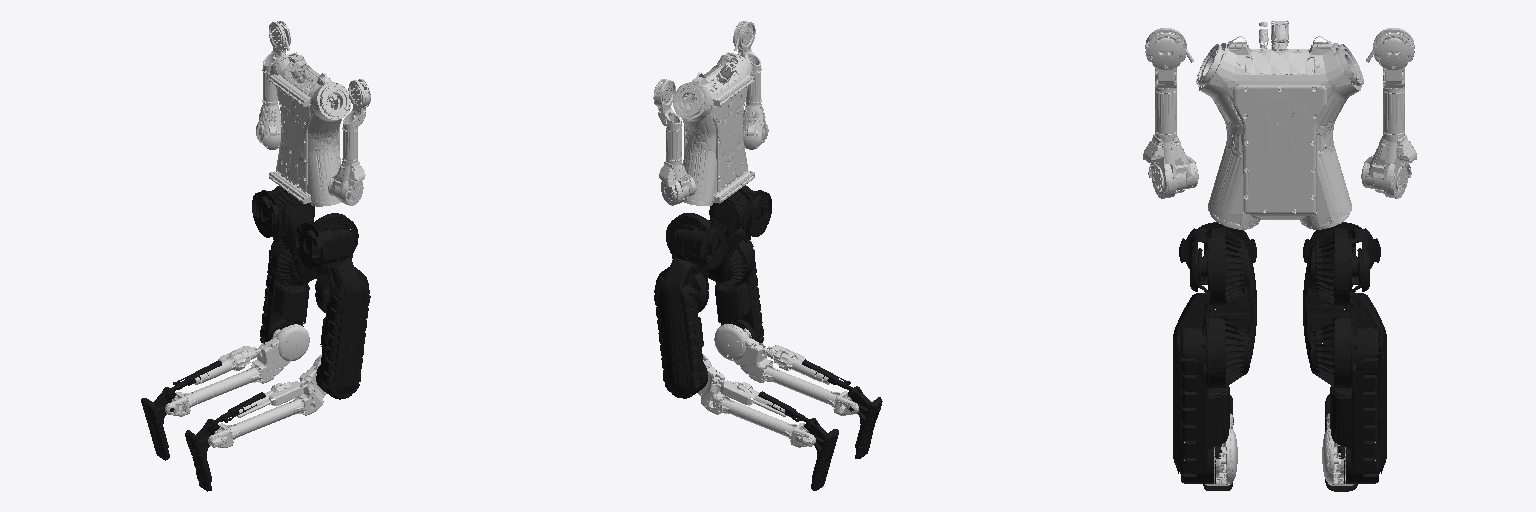
--- What the picture shows (computed from the rendered views, not written in the file) ---
The picture shows the robot from 3 angles, left to right: view 1: azimuth 30°, elevation 25°; view 2: azimuth 150°, elevation 25°; view 3: azimuth 270°, elevation 25°; orthographic projection.
Robot: qdh_sim — 27 links, 26 joints (16 revolute, 9 fixed, 1 floating); root link world; default pose: joints at zero except 4 at the middle of their limits (l_knee_fe = 1.3, l_elbow_fe = -1.23, r_knee_fe = 1.3, r_elbow_fe = -1.23).
Links seen in each view (by area): view 1: Torso, r_thigh_link, l_thigh_link, l_shin_link, r_shin_link, r_bicep_link, l_bicep_link, r_hip_aa_link, l_foot_link, r_foot_link, l_hip_aa_link; view 2: Torso, l_thigh_link, r_thigh_link, r_shin_link, l_shin_link, l_bicep_link, r_bicep_link, l_hip_aa_link, l_foot_link, r_foot_link, r_hip_aa_link; view 3: Torso, l_thigh_link, r_thigh_link, l_bicep_link, r_bicep_link, l_hip_aa_link, r_hip_aa_link, r_shin_link, l_shin_link.
Boxes of the visible links, x1=… form: Torso: x1=269, y1=52, x2=350, y2=206; r_thigh_link: x1=306, y1=213, x2=370, y2=399; l_thigh_link: x1=260, y1=186, x2=315, y2=343; l_shin_link: x1=165, y1=324, x2=309, y2=416; r_shin_link: x1=208, y1=355, x2=326, y2=447; r_bicep_link: x1=328, y1=79, x2=370, y2=205; l_bicep_link: x1=256, y1=21, x2=290, y2=149; r_hip_aa_link: x1=295, y1=218, x2=354, y2=269; l_foot_link: x1=141, y1=360, x2=221, y2=460; r_foot_link: x1=185, y1=392, x2=265, y2=491; l_hip_aa_link: x1=252, y1=190, x2=294, y2=237; Torso: x1=673, y1=52, x2=754, y2=205; l_thigh_link: x1=654, y1=213, x2=717, y2=398; r_thigh_link: x1=708, y1=184, x2=763, y2=342; r_shin_link: x1=714, y1=324, x2=858, y2=415; l_shin_link: x1=698, y1=354, x2=815, y2=447; l_bicep_link: x1=653, y1=79, x2=695, y2=205; r_bicep_link: x1=733, y1=21, x2=768, y2=149; l_hip_aa_link: x1=669, y1=218, x2=728, y2=268; l_foot_link: x1=758, y1=391, x2=838, y2=490; r_foot_link: x1=802, y1=359, x2=882, y2=458; r_hip_aa_link: x1=728, y1=190, x2=771, y2=236; Torso: x1=1196, y1=20, x2=1363, y2=229; l_thigh_link: x1=1303, y1=228, x2=1386, y2=483; r_thigh_link: x1=1173, y1=228, x2=1256, y2=483; l_bicep_link: x1=1361, y1=28, x2=1416, y2=198; r_bicep_link: x1=1143, y1=28, x2=1198, y2=198; l_hip_aa_link: x1=1303, y1=222, x2=1380, y2=292; r_hip_aa_link: x1=1179, y1=222, x2=1256, y2=292; r_shin_link: x1=1184, y1=413, x2=1237, y2=485; l_shin_link: x1=1322, y1=413, x2=1375, y2=485.
Bounding box of the posed robot: 0.5903 × 0.5544 × 1.24 m (x, y, z).
Meshes: 17 distinct files referenced, 11 mesh visuals loaded (11 binary STL); not drawn: 6 (reference not matched to a file when rendering).

URDF robot description (qdh_sim):
<robot name="qdh_sim">
    <link name="world"/>
    <joint name="floating_base" type="floating">
        <parent link="world"/>
        <child link="Torso"/>
        <origin rpy="0 0 0" xyz="0 0 0"/>
    </joint>
    <link name="Torso">
        <visual>
            <origin xyz="0 0 0" rpy="0 -0 0"/>
            <geometry>
                <mesh filename="package://meshes/qdh/torso_link__list_0esqkzdovwypiw_handles_visual.stl"/>
            </geometry>
            <material name="torso_link__list_0esqkzdovwypiw_handles_material">
                <color rgba="0.825 0.825 0.825 1.0"/>
            </material>
        </visual>
        <collision>
            <origin xyz="0 0 0" rpy="0 -0 0"/>
            <geometry>
                <mesh filename="package://meshes/qdh/torso_link__list_0esqkzdovwypiw_handles_visual.stl"/>
            </geometry>
            <material name="torso_link__list_0esqkzdovwypiw_handles_material">
                <color rgba="0.825 0.825 0.825 1.0"/>
            </material>
        </collision>
        <inertial>
            <origin xyz="-0.0070853 -0.00077995 0.305367" rpy="0 0 0"/>
            <mass value="9.66101"/>
            <inertia ixx="0.210194" ixy="-0.000189954" ixz="0.000812552" iyy="0.159276" iyz="0.000880618" izz="0.0739857"/>
        </inertial>
    </link>
    <!--=============================== l_hip_ie (l_hip_ie_link) ===========================-->
    <joint name="l_hip_ie" type="revolute">
        <origin xyz="-6.73073e-16 0.125 4.14512e-15" rpy="4.17028e-15 9.52016e-15 2.63721e-15"/>
        <parent link="Torso"/>
        <child link="l_hip_ie_link"/>
        <axis xyz="0 -0.258819 0.965926"/>
        <limit effort="70.0" velocity="4.1" lower="-0.436332" upper="0.436332"/>
        <joint_properties friction="0.0"/>
    </joint>
    <link name="l_hip_ie_link">
        <visual>
            <origin xyz="0 0 0" rpy="0 -0 0"/>
            <geometry>
                <mesh filename="package://meshes/qdh/l_hip_ie_link_visual.stl"/>
            </geometry>
            <material name="l_hip_ie_link_material">
                <color rgba="0.15 0.15 0.15 1.0"/>
            </material>
        </visual>
        <collision>
            <origin xyz="0 0 0" rpy="0 -0 0"/>
            <geometry>
                <mesh filename="package://meshes/qdh/l_hip_ie_link_visual.stl"/>
            </geometry>
            <material name="l_hip_ie_link_material">
                <color rgba="0.15 0.15 0.15 1.0"/>
            </material>
        </collision>
        <inertial>
            <origin xyz="-0.0943142 -0.00563666 0.0217333" rpy="0 0 0"/>
            <mass value="3.88766"/>
            <inertia ixx="0.0172409" ixy="0.00129646" ixz="-0.00629149" iyy="0.0190041" iyz="0.00203646" izz="0.0121399"/>
        </inertial>
    </link>
    <!--=============================== l_hip_aa (l_hip_aa_link) ===========================-->
    <joint name="l_hip_aa" type="revolute">
        <origin xyz="-4.64906e-16 -1.38778e-17 -4.29344e-17" rpy="3.46945e-18 -9.46465e-15 4.64906e-16"/>
        <parent link="l_hip_ie_link"/>
        <child link="l_hip_aa_link"/>
        <axis xyz="1 0 0"/>
        <limit effort="150.0" velocity="16.33" lower="-0.222529" upper="0.746128"/>
        <joint_properties friction="0.0"/>
    </joint>
    <link name="l_hip_aa_link">
        <visual>
            <origin xyz="0 0 0" rpy="0 -0 0"/>
            <geometry>
                <mesh filename="package://meshes/qdh/l_hip_aa_link_visual.stl"/>
            </geometry>
            <material name="l_hip_aa_link_material">
                <color rgba="0.15 0.15 0.15 1.0"/>
            </material>
        </visual>
        <collision>
            <origin xyz="0 0 0" rpy="0 -0 0"/>
            <geometry>
                <mesh filename="package://meshes/qdh/l_hip_aa_link_visual.stl"/>
            </geometry>
            <material name="l_hip_aa_link_material">
                <color rgba="0.15 0.15 0.15 1.0"/>
            </material>
        </collision>
        <inertial>
            <origin xyz="-0.0422296 0.0159628 -0.000545945" rpy="0 0 0"/>
            <mass value="0.56437"/>
            <inertia ixx="0.00116246" ixy="-0.000251036" ixz="-1.75649e-05" iyy="0.00129812" iyz="-2.22834e-06" izz="0.00145023"/>
        </inertial>
    </link>
    <!--=============================== l_hip_fe (l_thigh_link) ===========================-->
    <joint name="l_hip_fe" type="revolute">
        <origin xyz="-6.93889e-18 -1.38778e-16 7.88861e-31" rpy="-3.46945e-18 9.45077e-15 5.21284e-16"/>
        <parent link="l_hip_aa_link"/>
        <child link="l_thigh_link"/>
        <axis xyz="0 1 0"/>
        <limit effort="250.0" velocity="16.33" lower="-1.91986" upper="0.47822"/>
        <joint_properties friction="0.0"/>
    </joint>
    <link name="l_thigh_link">
        <visual>
            <origin xyz="0 0 0" rpy="0 -0 0"/>
            <geometry>
                <mesh filename="package://meshes/qdh/l_thigh_link_visual.stl"/>
            </geometry>
            <material name="l_thigh_link_material">
                <color rgba="0.15 0.15 0.15 1.0"/>
            </material>
        </visual>
        <collision>
            <origin xyz="0 0 0" rpy="0 -0 0"/>
            <geometry>
                <mesh filename="package://meshes/qdh/l_thigh_link_visual.stl"/>
            </geometry>
            <material name="l_thigh_link_material">
                <color rgba="0.15 0.15 0.15 1.0"/>
            </material>
        </collision>
        <inertial>
            <origin xyz="0.015491 -0.00182256 -0.132842" rpy="0 0 0"/>
            <mass value="9.03181"/>
            <inertia ixx="0.162797" ixy="-4.95823e-06" ixz="0.00528444" iyy="0.164674" iyz="0.018121" izz="0.0247698"/>
        </inertial>
    </link>
    <!--=============================== l_knee_fe (l_shin_link) ===========================-->
    <joint name="l_knee_fe" type="revolute">
        <origin xyz="4.79478e-15 0 -0.42" rpy="6.93889e-18 -1.06429e-14 -4.79519e-15"/>
        <parent link="l_thigh_link"/>
        <child link="l_shin_link"/>
        <axis xyz="0 1 0"/>
        <limit effort="250.0" velocity="16.33" lower="0.20" upper="2.3911"/>
        <joint_properties friction="0.0"/>
    </joint>
    <link name="l_shin_link">
        <visual>
            <origin xyz="0 0 0" rpy="0 -0 0"/>
            <geometry>
                <mesh filename="package://meshes/qdh/l_shin_link_visual.stl"/>
            </geometry>
            <material name="l_shin_link_material">
                <color rgba="0.825 0.825 0.825 1.0"/>
            </material>
        </visual>
        <collision>
            <origin xyz="0 0 0" rpy="0 -0 0"/>
            <geometry>
                <mesh filename="package://meshes/qdh/l_shin_link_visual.stl"/>
            </geometry>
            <material name="l_shin_link_material">
                <color rgba="0.825 0.825 0.825 1.0"/>
            </material>
        </collision>
        <inertial>
            <origin xyz="0.00249008 0.00787388 -0.140454" rpy="0 0 0"/>
            <mass value="2.68236"/>
            <inertia ixx="0.0522156" ixy="0.000183498" ixz="-0.000229201" iyy="0.05289" iyz="-0.00159302" izz="0.00373055"/>
        </inertial>
    </link>
    <!--=============================== l_ankle_fe (l_foot_link) ===========================-->
    <joint name="l_ankle_fe" type="revolute">
        <origin xyz="5.14352e-17 2.77556e-17 -0.42" rpy="-1.38667e-31 -1.71977e-30 1.21778e-15"/>
        <parent link="l_shin_link"/>
        <child link="l_foot_link"/>
        <axis xyz="0 1 0"/>
        <limit effort="90.0" velocity="5.7" lower="-1.23918" upper="0.436332"/>
        <joint_properties friction="0.0"/>
    </joint>
    <link name="l_foot_link">
        <visual>
            <origin xyz="0 0 0" rpy="0 -0 0"/>
            <geometry>
                <mesh filename="package://meshes/qdh/l_foot.stl"/>
            </geometry>
            <material name="l_foot_link_material">
                <color rgba="0.15 0.15 0.15 1.0"/>
            </material>
        </visual>
        <collision>
            <origin xyz="0 0 0" rpy="0 -0 0"/>
            <geometry>
                <mesh filename="package://meshes/qdh/l_foot.stl"/>
            </geometry>
            <material name="l_foot_link_material">
                <color rgba="0.15 0.15 0.15 1.0"/>
            </material>
        </collision>
        <inertial>
            <origin xyz="0.013374 0.00030601 -0.00411765" rpy="0 0 0"/>
            <mass value="0.635937"/>
            <inertia ixx="0.00323459" ixy="4.92056e-06" ixz="0.00131781" iyy="0.00476818" iyz="8.06811e-06" izz="0.00172715"/>
        </inertial>
    </link>
    <!--=============================== l_shldr_fe (l_shoulder_fe_link) ===========================-->
    <joint name="l_shldr_fe" type="revolute">
        <origin xyz="2.74905e-15 0.23 0.5" rpy="3.26951e-14 -2.90001e-16 6.44063e-16"/>
        <parent link="Torso"/>
        <child link="l_shoulder_fe_link"/>
        <axis xyz="0 0.866025 0.5"/>
        <limit effort="70.0" velocity="4.1" lower="-3.14159" upper="0.785398"/>
        <joint_properties friction="0.0"/>
    </joint>
    <link name="l_shoulder_fe_link">
        <visual>
            <origin xyz="0 0 0" rpy="0 -0 0"/>
            <geometry>
                <mesh filename="package://meshes/qdh/l_shoulder_fe_link_visual.stl"/>
            </geometry>
            <material name="l_shoulder_fe_link_material">
                <color rgba="0.15 0.15 0.15 1.0"/>
            </material>
        </visual>
        <collision>
            <origin xyz="0 0 0" rpy="0 -0 0"/>
            <geometry>
                <mesh filename="package://meshes/qdh/l_shoulder_fe_link_visual.stl"/>
            </geometry>
            <material name="l_shoulder_fe_link_material">
                <color rgba="0.15 0.15 0.15 1.0"/>
            </material>
        </collision>
        <inertial>
            <origin xyz="-0.00917748 -0.0357269 -0.0197728" rpy="0 0 0"/>
            <mass value="1.46854"/>
            <inertia ixx="0.00528789" ixy="0.000293975" ixz="4.48609e-05" iyy="0.00246679" iyz="-0.00165798" izz="0.00414294"/>
        </inertial>
    </link>
    <!--=============================== l_shldr_aa (l_bicep_link) ===========================-->
    <joint name="l_shldr_aa" type="revolute">
        <origin xyz="-5.42342e-31 0 5.55112e-17" rpy="-4.0637e-17 1.23467e-16 5.05971e-15"/>
        <parent link="l_shoulder_fe_link"/>
        <child link="l_bicep_link"/>
        <axis xyz="1 0 0"/>
        <limit effort="70.0" velocity="4.1" lower="0" upper="2.0944"/>
        <joint_properties friction="0.0"/>
    </joint>
    <link name="l_bicep_link">
        <visual>
            <origin xyz="0 0 0" rpy="0 -0 0"/>
            <geometry>
                <mesh filename="package://meshes/qdh/l_bicep_link_visual.stl"/>
            </geometry>
            <material name="l_bicep_link_material">
                <color rgba="0.825 0.825 0.825 1.0"/>
            </material>
        </visual>
        <collision>
            <origin xyz="0 0 0" rpy="0 -0 0"/>
            <geometry>
                <mesh filename="package://meshes/qdh/l_bicep_link_visual.stl"/>
            </geometry>
            <material name="l_bicep_link_material">
                <color rgba="0.825 0.825 0.825 1.0"/>
            </material>
        </collision>
        <inertial>
            <origin xyz="0.00192337 -0.00700952 -0.222911" rpy="0 0 0"/>
            <mass value="1.52298"/>
            <inertia ixx="0.0190226" ixy="-0.000148002" ixz="-0.00189385" iyy="0.0190689" iyz="-0.000808217" izz="0.00125113"/>
        </inertial>
    </link>
    <!--=============================== l_elbow_fe (l_forearm_link) ===========================-->
    <joint name="l_elbow_fe" type="revolute">
        <origin xyz="-1.45767e-16 5.55112e-17 -0.3" rpy="1.15644e-16 -4.79014e-17 4.58463e-17"/>
        <parent link="l_bicep_link"/>
        <child link="l_forearm_link"/>
        <axis xyz="0.382683 0.92388 0"/>
        <limit effort="70.0" velocity="4.1" lower="-2.26893" upper="-0.20"/>
        <joint_properties friction="0.0"/>
    </joint>
    <link name="l_forearm_link">
        <visual>
            <origin xyz="0 0 0" rpy="0 -0 0"/>
            <geometry>
                <mesh filename="package://meshes/qdh/l_forearm_link_visual.stl"/>
            </geometry>
            <material name="l_forearm_link_material">
                <color rgba="0.15 0.15 0.15 1.0"/>
            </material>
        </visual>
        <collision>
            <origin xyz="0 0 0" rpy="0 -0 0"/>
            <geometry>
                <mesh filename="package://meshes/qdh/l_forearm_link_collision.stl"/>
            </geometry>
            <material name="l_forearm_link_material">
                <color rgba="0.15 0.15 0.15 1.0"/>
            </material>
        </collision>
        <inertial>
            <origin xyz="0.00440832 0.0112981 -0.127919" rpy="0 0 0"/>
            <mass value="0.59276"/>
            <inertia ixx="0.00769343" ixy="-6.15743e-05" ixz="-0.00028427" iyy="0.00765896" iyz="-0.000620791" izz="0.000365679"/>
        </inertial>
    </link>
    <!--=============================== r_hip_ie (r_hip_ie_link) ===========================-->
    <joint name="r_hip_ie" type="revolute">
        <origin xyz="-6.66134e-16 -0.125 -4.13165e-15" rpy="5.39846e-15 6.71685e-15 -1.73819e-15"/>
        <parent link="Torso"/>
        <child link="r_hip_ie_link"/>
        <axis xyz="0 0.258819 0.965926"/>
        <limit effort="70.0" velocity="4.1" lower="-0.436332" upper="0.436332"/>
        <joint_properties friction="0.0"/>
    </joint>
    <link name="r_hip_ie_link">
        <visual>
            <origin xyz="0 0 0" rpy="0 -0 0"/>
            <geometry>
                <mesh filename="package://meshes/qdh/r_hip_ie_link_visual.stl"/>
            </geometry>
            <material name="r_hip_ie_link_material">
                <color rgba="0.15 0.15 0.15 1.0"/>
            </material>
        </visual>
        <collision>
            <origin xyz="0 0 0" rpy="0 -0 0"/>
            <geometry>
                <mesh filename="package://meshes/qdh/r_hip_ie_link_visual.stl"/>
            </geometry>
            <material name="r_hip_ie_link_material">
                <color rgba="0.15 0.15 0.15 1.0"/>
            </material>
        </collision>
        <inertial>
            <origin xyz="-0.0943197 0.00566348 0.0217261" rpy="0 0 0"/>
            <mass value="3.88766"/>
            <inertia ixx="0.0172409" ixy="-0.00164736" ixz="-0.00638115" iyy="0.0188509" iyz="-0.00179793" izz="0.012285"/>
        </inertial>
    </link>
    <!--=============================== r_hip_aa (r_hip_aa_link) ===========================-->
    <joint name="r_hip_aa" type="revolute">
        <origin xyz="1.85728e-15 -3.05311e-16 -1.33225e-17" rpy="-1.20717e-15 8.38165e-31 1.98543e-14"/>
        <parent link="r_hip_ie_link"/>
        <child link="r_hip_aa_link"/>
        <axis xyz="1 0 0"/>
        <limit effort="150.0" velocity="16.33" lower="-0.746128" upper="0.222529"/>
        <joint_properties friction="0.0"/>
    </joint>
    <link name="r_hip_aa_link">
        <visual>
            <origin xyz="0 0 0" rpy="0 -0 0"/>
            <geometry>
                <mesh filename="package://meshes/qdh/r_hip_aa_link_visual.stl"/>
            </geometry>
            <material name="r_hip_aa_link_material">
                <color rgba="0.15 0.15 0.15 1.0"/>
            </material>
        </visual>
        <collision>
            <origin xyz="0 0 0" rpy="0 -0 0"/>
            <geometry>
                <mesh filename="package://meshes/qdh/r_hip_aa_link_visual.stl"/>
            </geometry>
            <material name="r_hip_aa_link_material">
                <color rgba="0.15 0.15 0.15 1.0"/>
            </material>
        </collision>
        <inertial>
            <origin xyz="-0.0422296 -0.0159628 -0.000545918" rpy="0 0 0"/>
            <mass value="0.56437"/>
            <inertia ixx="0.00116246" ixy="0.000251036" ixz="-1.75616e-05" iyy="0.00129812" iyz="2.22305e-06" izz="0.00145023"/>
        </inertial>
    </link>
    <!--=============================== r_hip_fe (r_thigh_link) ===========================-->
    <joint name="r_hip_fe" type="revolute">
        <origin xyz="1.77494e-30 6.93889e-17 7.88861e-31" rpy="1.14492e-15 4.40776e-29 -2.00065e-14"/>
        <parent link="r_hip_aa_link"/>
        <child link="r_thigh_link"/>
        <axis xyz="0 1 0"/>
        <limit effort="250.0" velocity="16.33" lower="-1.91986" upper="0.47822"/>
        <joint_properties friction="0.0"/>
    </joint>
    <link name="r_thigh_link">
        <visual>
            <origin xyz="0 0 0" rpy="0 -0 0"/>
            <geometry>
                <mesh filename="package://meshes/qdh/r_thigh_link_visual.stl"/>
            </geometry>
            <material name="r_thigh_link_material">
                <color rgba="0.15 0.15 0.15 1.0"/>
            </material>
        </visual>
        <collision>
            <origin xyz="0 0 0" rpy="0 -0 0"/>
            <geometry>
                <mesh filename="package://meshes/qdh/r_thigh_link_visual.stl"/>
            </geometry>
            <material name="r_thigh_link_material">
                <color rgba="0.15 0.15 0.15 1.0"/>
            </material>
        </collision>
        <inertial>
            <origin xyz="0.0155133 0.00283279 -0.132977" rpy="0 0 0"/>
            <mass value="9.04699"/>
            <inertia ixx="0.162256" ixy="0.000152769" ixz="0.00495391" iyy="0.165145" iyz="-0.0194312" izz="0.0238239"/>
        </inertial>
    </link>
    <!--=============================== r_knee_fe (r_shin_link) ===========================-->
    <joint name="r_knee_fe" type="revolute">
        <origin xyz="2.05502e-15 2.35922e-16 -0.42" rpy="-3.15228e-30 -7.85346e-15 7.18647e-16"/>
        <parent link="r_thigh_link"/>
        <child link="r_shin_link"/>
        <axis xyz="0 1 0"/>
        <limit effort="250.0" velocity="16.33" lower="0.20" upper="2.3911"/>
        <joint_properties friction="0.0"/>
    </joint>
    <link name="r_shin_link">
        <visual>
            <origin xyz="0 0 0" rpy="0 -0 0"/>
            <geometry>
                <mesh filename="package://meshes/qdh/r_shin_link_visual.stl"/>
            </geometry>
            <material name="r_shin_link_material">
                <color rgba="0.825 0.825 0.825 1.0"/>
            </material>
        </visual>
        <collision>
            <origin xyz="0 0 0" rpy="0 -0 0"/>
            <geometry>
                <mesh filename="package://meshes/qdh/r_shin_link_visual.stl"/>
            </geometry>
            <material name="r_shin_link_material">
                <color rgba="0.825 0.825 0.825 1.0"/>
            </material>
        </collision>
        <inertial>
            <origin xyz="0.0025067 -0.00787681 -0.14045" rpy="0 0 0"/>
            <mass value="2.68136"/>
            <inertia ixx="0.052222" ixy="-0.00018324" ixz="-0.000229" iyy="0.0529629" iyz="0.00153641" izz="0.00366534"/>
        </inertial>
    </link>
    <!--=============================== r_ankle_fe (r_foot_link) ===========================-->
    <joint name="r_ankle_fe" type="revolute">
        <origin xyz="5.14352e-17 -1.38778e-17 -0.42" rpy="-4.41202e-16 5.36482e-31 -3.74048e-16"/>
        <parent link="r_shin_link"/>
        <child link="r_foot_link"/>
        <axis xyz="0 1 0"/>
        <limit effort="90.0" velocity="5.7" lower="-1.23918" upper="0.436332"/>
        <joint_properties friction="0.0"/>
    </joint>
    <link name="r_foot_link">
        <visual>
            <origin xyz="0 0 0" rpy="0 -0 0"/>
            <geometry>
                <mesh filename="package://meshes/qdh/r_foot.stl"/>
            </geometry>
            <material name="r_foot_link_material">
                <color rgba="0.15 0.15 0.15 1.0"/>
            </material>
        </visual>
        <collision>
            <origin xyz="0 0 0" rpy="0 -0 0"/>
            <geometry>
                <mesh filename="package://meshes/qdh/r_foot.stl"/>
            </geometry>
            <material name="r_foot_link_material">
                <color rgba="0.15 0.15 0.15 1.0"/>
            </material>
        </collision>
        <inertial>
            <origin xyz="0.013374 0.000688182 -0.00411766" rpy="0 0 0"/>
            <mass value="0.635937"/>
            <inertia ixx="0.00335464" ixy="2.41978e-06" ixz="0.00131781" iyy="0.0047682" iyz="-1.01355e-05" izz="0.00184718"/>
        </inertial>
    </link>
    <!--=============================== r_shldr_fe (r_shoulder_fe_link) ===========================-->
    <joint name="r_shldr_fe" type="revolute">
        <origin xyz="-6.68881e-16 -0.23 0.5" rpy="4.03308e-14 -1.13661e-15 -1.94317e-15"/>
        <parent link="Torso"/>
        <child link="r_shoulder_fe_link"/>
        <axis xyz="0 0.866025 -0.5"/>
        <limit effort="70.0" velocity="4.1" lower="-3.14159" upper="0.785398"/>
        <joint_properties friction="0.0"/>
    </joint>
    <link name="r_shoulder_fe_link">
        <visual>
            <origin xyz="0 0 0" rpy="0 -0 0"/>
            <geometry>
                <mesh filename="package://meshes/qdh/r_shoulder_fe_link_visual.stl"/>
            </geometry>
            <material name="r_shoulder_fe_link_material">
                <color rgba="0.15 0.15 0.15 1.0"/>
            </material>
        </visual>
        <collision>
            <origin xyz="0 0 0" rpy="0 -0 0"/>
            <geometry>
                <mesh filename="package://meshes/qdh/r_shoulder_fe_link_visual.stl"/>
            </geometry>
            <material name="r_shoulder_fe_link_material">
                <color rgba="0.15 0.15 0.15 1.0"/>
            </material>
        </collision>
        <inertial>
            <origin xyz="-0.0090987 0.0361138 -0.020018" rpy="0 0 0"/>
            <mass value="1.48115"/>
            <inertia ixx="0.00532871" ixy="-0.000397234" ixz="0.000217234" iyy="0.00219548" iyz="0.00183657" izz="0.00445731"/>
        </inertial>
    </link>
    <!--=============================== r_shldr_aa (r_bicep_link) ===========================-->
    <joint name="r_shldr_aa" type="revolute">
        <origin xyz="1.57772e-30 0 0" rpy="-7.37813e-30 4.76066e-30 7.71378e-16"/>
        <parent link="r_shoulder_fe_link"/>
        <child link="r_bicep_link"/>
        <axis xyz="1 0 0"/>
        <limit effort="70.0" velocity="4.1" lower="-2.0944" upper="0"/>
        <joint_properties friction="0.0"/>
    </joint>
    <link name="r_bicep_link">
        <visual>
            <origin xyz="0 0 0" rpy="0 -0 0"/>
            <geometry>
                <mesh filename="package://meshes/qdh/r_bicep_link_visual.stl"/>
            </geometry>
            <material name="r_bicep_link_material">
                <color rgba="0.825 0.825 0.825 1.0"/>
            </material>
        </visual>
        <collision>
            <origin xyz="0 0 0" rpy="0 -0 0"/>
            <geometry>
                <mesh filename="package://meshes/qdh/r_bicep_link_visual.stl"/>
            </geometry>
            <material name="r_bicep_link_material">
                <color rgba="0.825 0.825 0.825 1.0"/>
            </material>
        </collision>
        <inertial>
            <origin xyz="0.00187408 0.00698445 -0.222884" rpy="0 0 0"/>
            <mass value="1.52098"/>
            <inertia ixx="0.0190211" ixy="0.000148305" ixz="-0.00189478" iyy="0.0190681" iyz="0.00080802" izz="0.00125111"/>
        </inertial>
    </link>
    <!--=============================== r_elbow_fe (r_forearm_link) ===========================-->
    <joint name="r_elbow_fe" type="revolute">
        <origin xyz="2.6361e-18 2.77556e-17 -0.3" rpy="8.1274e-17 -2.912e-17 3.50326e-15"/>
        <parent link="r_bicep_link"/>
        <child link="r_forearm_link"/>
        <axis xyz="-0.382683 0.92388 0"/>
        <limit effort="70.0" velocity="4.1" lower="-2.26893" upper="-0.20"/>
        <joint_properties friction="0.0"/>
    </joint>
    <link name="r_forearm_link">
        <visual>
            <origin xyz="0 0 0" rpy="0 -0 0"/>
            <geometry>
                <mesh filename="package://meshes/qdh/r_forearm_link_visual.stl"/>
            </geometry>
            <material name="r_forearm_link_material">
                <color rgba="0.15 0.15 0.15 1.0"/>
            </material>
        </visual>
        <collision>
            <origin xyz="0 0 0" rpy="0 -0 0"/>
            <geometry>
                <mesh filename="package://meshes/qdh/r_forearm_link_collision.stl"/>
            </geometry>
            <material name="r_forearm_link_material">
                <color rgba="0.15 0.15 0.15 1.0"/>
            </material>
        </collision>
        <inertial>
            <origin xyz="0.00440586 -0.011299 -0.127919" rpy="0 0 0"/>
            <mass value="0.592759"/>
            <inertia ixx="0.00769343" ixy="6.15674e-05" ixz="-0.000284234" iyy="0.00765892" iyz="0.00062084" izz="0.000365712"/>
        </inertial>
    </link>
    <link name="IMU">
        <inertial>
            <mass value="0.0001"/>
            <origin rpy="0 0 0" xyz="0.0 0.0 0.0"/>
            <inertia ixx="0.00000001" ixy="0" ixz="0" iyy="0.00000001" iyz="0" izz="0.00000001"/>
        </inertial>
    </link>
    <joint name="IMU" type="fixed">
        <origin rpy="0 3.1415926 1.5714" xyz="-0.0 -0.00 0.13"/>
        <parent link="Torso"/>
        <child link="IMU"/>
    </joint>
    <link name="lToe">
        <inertial>
            <origin rpy="0 0 0" xyz="0 0 0"/>
            <mass value="0.0001"/>
            <inertia ixx="9.9999999999999995e-07" ixy="0" ixz="0" iyy="9.9999999999999995e-07" iyz="0" izz="9.9999999999999995e-07"/>
        </inertial>
        <!-- <collision>
      <origin rpy="0 -0 0" xyz="-0.039 0 0.005"/>
      <geometry>
        <box size="0.08 0.065 0.011"/>
      </geometry>
    </collision> -->
    </link>
    <joint name="lToe" type="fixed">
        <origin rpy="0 0 0" xyz="0.13 0 -0.0725"/>
        <parent link="l_foot_link"/>
        <child link="lToe"/>
    </joint>
    <link name="lHeel">
        <inertial>
            <origin rpy="0 0 0" xyz="0 0 0"/>
            <mass value="0.0001"/>
            <inertia ixx="9.9999999999999995e-07" ixy="0" ixz="0" iyy="9.9999999999999995e-07" iyz="0" izz="9.9999999999999995e-07"/>
        </inertial>
        <!-- <collision>
      <origin rpy="0 -0 0" xyz="0.039 0 0.005"/>
      <geometry>
        <box size="0.08 0.065 0.011"/>
      </geometry>
    </collision> -->
    </link>
    <joint name="lHeel" type="fixed">
        <origin rpy="0 0 0" xyz="-0.03 0 -0.0725"/>
        <parent link="l_foot_link"/>
        <child link="lHeel"/>
    </joint>
    <joint name="l_foot_contact_frame" type="fixed">
        <origin rpy="0 0 0" xyz="0 0 -0.0725"/>
        <parent link="l_foot_link"/>
        <child link="lFoot"/>
    </joint>
    <link name="lFoot">
        <inertial>
            <origin rpy="0 0 0" xyz="0 0 0"/>
            <mass value="1e-9"/>
            <inertia ixx="0" ixy="0" ixz="0" iyy="0" iyz="0" izz="0"/>
        </inertial>
    </link>
    <link name="rToe">
        <inertial>
            <origin rpy="0 0 0" xyz="0 0 0"/>
            <mass value="0.0001"/>
            <inertia ixx="9.9999999999999995e-07" ixy="0" ixz="0" iyy="9.9999999999999995e-07" iyz="0" izz="9.9999999999999995e-07"/>
        </inertial>
        <!-- <collision>
      <origin rpy="0 -0 0" xyz="-0.039 0 0.005"/>
      <geometry>
        <box size="0.08 0.065 0.011"/>
      </geometry>
    </collision> -->
    </link>
    <joint name="rToe" type="fixed">
        <origin rpy="0 0 0" xyz="0.13 0 -0.0725"/>
        <parent link="r_foot_link"/>
        <child link="rToe"/>
    </joint>
    <link name="rHeel">
        <inertial>
            <origin rpy="0 0 0" xyz="0 0 0"/>
            <mass value="0.0001"/>
            <inertia ixx="9.9999999999999995e-07" ixy="0" ixz="0" iyy="9.9999999999999995e-07" iyz="0" izz="9.9999999999999995e-07"/>
        </inertial>
        <!-- <collision>
      <origin rpy="0 -0 0" xyz="0.039 0 0.005"/>
      <geometry>
        <box size="0.08 0.065 0.011"/>
      </geometry>
    </collision> -->
    </link>
    <joint name="rHeel" type="fixed">
        <origin rpy="0 0 0" xyz="-0.03 0 -0.0725"/>
        <parent link="r_foot_link"/>
        <child link="rHeel"/>
    </joint>
    <joint name="r_foot_contact_frame" type="fixed">
        <origin rpy="0 0 0" xyz="0 0 -0.0725"/>
        <parent link="r_foot_link"/>
        <child link="rFoot"/>
    </joint>
    <link name="rFoot">
        <inertial>
            <origin rpy="0 0 0" xyz="0 0 0"/>
            <mass value="1e-9"/>
            <inertia ixx="0" ixy="0" ixz="0" iyy="0" iyz="0" izz="0"/>
        </inertial>
    </link>
    <link name="lHand">
        <inertial>
            <origin rpy="0 0 0" xyz="0 0 0"/>
            <mass value="0.000001"/>
            <inertia ixx="0" ixy="0" ixz="0" iyy="0" iyz="0" izz="0"/>
        </inertial>
    </link>
    <joint name="lHand" type="fixed">
        <origin rpy="0 0 0" xyz="0 0 -0.3"/>
        <parent link="l_forearm_link"/>
        <child link="lHand"/>
    </joint>
    <link name="rHand">
        <inertial>
            <origin rpy="0 0 0" xyz="0 0 0"/>
            <mass value="0.000001"/>
            <inertia ixx="0" ixy="0" ixz="0" iyy="0" iyz="0" izz="0"/>
        </inertial>
    </link>
    <joint name="rHand" type="fixed">
        <origin rpy="0 0 0" xyz="0 0 -0.3"/>
        <parent link="r_forearm_link"/>
        <child link="rHand"/>
    </joint>
    <!--=============================== oak-d ===========================-->
    <!--<link name="oakd_chest_front"/>-->
    <!--<joint name="oak_center_joint" type="fixed">-->
        <!--<parent link="Torso"/>-->
        <!--<child link="oakd_chest_front"/>-->
        <!--<origin rpy="0 0.785398 0" xyz="0.083 0 0.475"/>-->
    <!--</joint>-->
     <!--device Center -->
    <!--<link name="oak_model_origin">-->
        <!--<visual>-->
            <!--<origin xyz="0 0 0" rpy="0 0 0"/>-->
            <!--<geometry>-->
                <!--<mesh filename="package://depthai_model_meshes/meshes/OAK-D-PRO.stl"/>-->
            <!--</geometry>-->
            <!--<material name="mat">-->
                <!--<color rgba="0.8 0.8 0.8 0.8"/>-->
            <!--</material>-->
        <!--</visual>-->
    <!--</link>-->
    <!--<joint name="oak_model_origin_joint" type="fixed">-->
        <!--<parent link="oakd_chest_front"/>-->
        <!--<child link="oak_model_origin"/>-->
        <!--<origin xyz="0 0 0" rpy="1.5708 0 1.5708"/>-->
    <!--</joint>-->
     <!--IMU -->
    <!--<link name="oak_imu_frame"/>-->
    <!--<joint name="oak_imu_joint" type="fixed">-->
        <!--<parent link="oakd_chest_front"/>-->
        <!--<child link="oak_imu_frame"/>-->
        <!--<origin xyz="0.0 -0.015 -0.013662" rpy="0 1.5708 0"/>-->
    <!--</joint>-->
     <!--RGB Camera -->
    <!--<link name="oak_rgb_camera_frame"/>-->
    <!--<joint name="oak_rgb_camera_joint" type="fixed">-->
        <!--<parent link="oakd_chest_front"/>-->
        <!--<child link="oak_rgb_camera_frame"/>-->
        <!--<origin xyz="0 0 0" rpy="0 0 0"/>-->
    <!--</joint>-->
    <!--<link name="oak_rgb_camera_optical_frame"/>-->
    <!--<joint name="oak_rgb_camera_optical_joint" type="fixed">-->
        <!--<origin xyz="0 0 0" rpy="-1.57079632679  0.0 -1.57079632679 "/>-->
        <!--<parent link="oak_rgb_camera_frame"/>-->
        <!--<child link="oak_rgb_camera_optical_frame"/>-->
    <!--</joint>-->
     <!--Left Camera -->
    <!--<link name="oak_left_camera_frame"/>-->
    <!--<joint name="oak_left_camera_joint" type="fixed">-->
        <!--<parent link="oakd_chest_front"/>-->
        <!--<child link="oak_left_camera_frame"/>-->
        <!--<origin xyz="0 0.0375 0" rpy="0 0 0"/>-->
    <!--</joint>-->
    <!--<link name="oak_left_camera_optical_frame"/>-->
    <!--<joint name="oak_left_camera_optical_joint" type="fixed">-->
        <!--<origin xyz="0 0 0" rpy="-1.57079632679  0.0 -1.57079632679 "/>-->
        <!--<parent link="oak_left_camera_frame"/>-->
        <!--<child link="oak_left_camera_optical_frame"/>-->
    <!--</joint>-->
     <!--right Camera -->
    <!--<link name="oak_right_camera_frame"/>-->
    <!--<joint name="oak_right_camera_joint" type="fixed">-->
        <!--<parent link="oakd_chest_front"/>-->
        <!--<child link="oak_right_camera_frame"/>-->
        <!--<origin xyz="0 -0.0375 0" rpy="0 0 0"/>-->
    <!--</joint>-->
    <!--<link name="oak_right_camera_optical_frame"/>-->
    <!--<joint name="oak_right_camera_optical_joint" type="fixed">-->
        <!--<origin xyz="0 0 0" rpy="-1.57079632679  0.0 -1.57079632679 "/>-->
        <!--<parent link="oak_right_camera_frame"/>-->
        <!--<child link="oak_right_camera_optical_frame"/>-->
    <!--</joint>-->
    <gazebo>
        <plugin filename="ign_cortex_control_plugin" name="aptk::sim::IgnControlPlugin">
            <control_rate>1000</control_rate>
        </plugin>
        <plugin filename="ignition-gazebo-imu-system" name="ignition::gazebo::systems::Imu"/>
        <plugin filename="ignition-gazebo-odometry-publisher-system" name="ignition::gazebo::systems::OdometryPublisher">
            <dimensions>3</dimensions>
            <odom_publish_frequency>1000</odom_publish_frequency>
        </plugin>
    </gazebo>
    <gazebo reference="IMU">
        <sensor name="IMU" type="imu">
            <always_on>1</always_on>
            <update_rate>1000</update_rate>
            <visualize>true</visualize>
            <topic>imu_link</topic>
            <imu>
                <angular_velocity>
                    <x>
                        <noise type="gaussian">
                            <mean>0.0</mean>
                            <stddev>2e-4</stddev>
                            <bias_mean>0.0000075</bias_mean>
                            <bias_stddev>0.0000008</bias_stddev>
                        </noise>
                    </x>
                    <y>
                        <noise type="gaussian">
                            <mean>0.0</mean>
                            <stddev>2e-4</stddev>
                            <bias_mean>0.0000075</bias_mean>
                            <bias_stddev>0.0000008</bias_stddev>
                        </noise>
                    </y>
                    <z>
                        <noise type="gaussian">
                            <mean>0.0</mean>
                            <stddev>2e-4</stddev>
                            <bias_mean>0.0000075</bias_mean>
                            <bias_stddev>0.0000008</bias_stddev>
                        </noise>
                    </z>
                </angular_velocity>
                <linear_acceleration>
                    <x>
                        <noise type="gaussian">
                            <mean>0.0</mean>
                            <stddev>1.7e-2</stddev>
                            <bias_mean>0.1</bias_mean>
                            <bias_stddev>0.001</bias_stddev>
                        </noise>
                    </x>
                    <y>
                        <noise type="gaussian">
                            <mean>0.0</mean>
                            <stddev>1.7e-2</stddev>
                            <bias_mean>0.1</bias_mean>
                            <bias_stddev>0.001</bias_stddev>
                        </noise>
                    </y>
                    <z>
                        <noise type="gaussian">
                            <mean>0.0</mean>
                            <stddev>1.7e-2</stddev>
                            <bias_mean>0.1</bias_mean>
                            <bias_stddev>0.001</bias_stddev>
                        </noise>
                    </z>
                </linear_acceleration>
            </imu>
        </sensor>
    </gazebo>
</robot>
